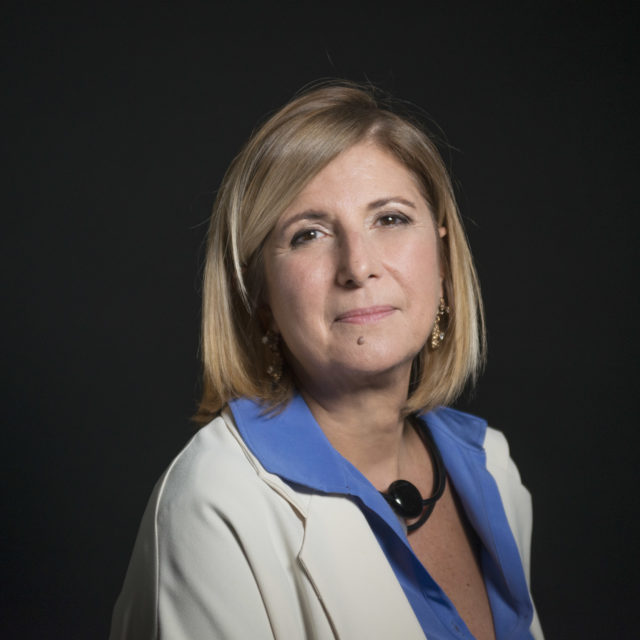human: (258, 137, 443, 377)
